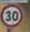limite 30: (1, 3, 24, 27)
